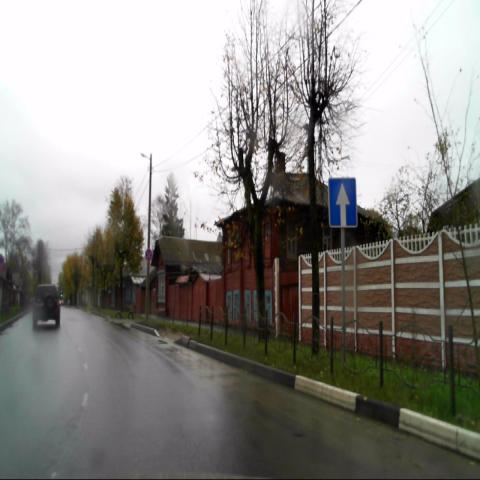5_5: (329, 177, 358, 227)
